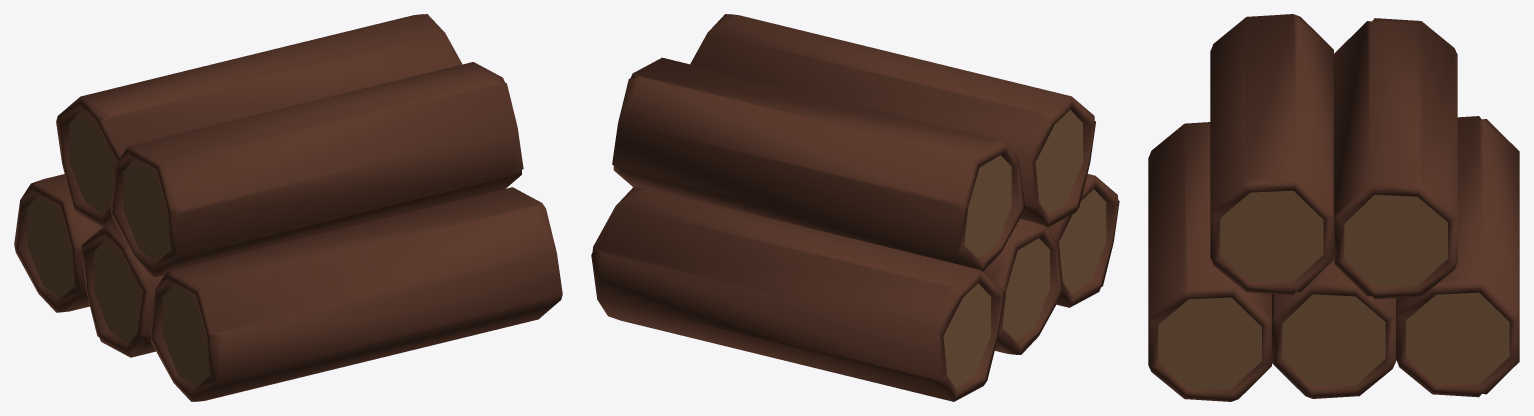
3 renders of one model, left to right at view 1: azimuth 30°, elevation 25°; view 2: azimuth 150°, elevation 25°; view 3: azimuth 270°, elevation 25°, orthographic.
Parts seen in each view (by area): view 1: PileOfChoppedWood; view 2: PileOfChoppedWood; view 3: PileOfChoppedWood.
Part boxes in pixels (<box>): PileOfChoppedWood: <box>14,14,562,401</box>; PileOfChoppedWood: <box>591,14,1119,401</box>; PileOfChoppedWood: <box>1148,14,1519,401</box>.
Size of what is drawn, in the model's own units: 0.6945 by 0.3985 by 0.6239.
1 material, 1 textured.
